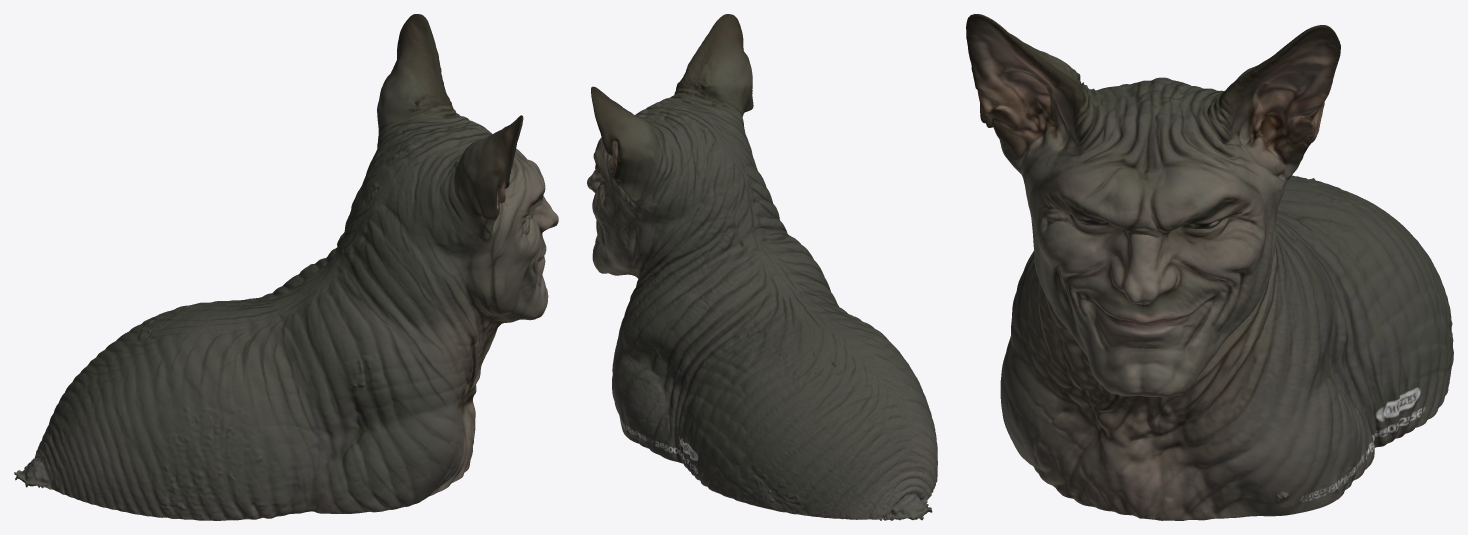
File: cat.glb
The picture shows the model from 3 angles, left to right: view 1: azimuth 30°, elevation 25°; view 2: azimuth 150°, elevation 25°; view 3: azimuth 270°, elevation 25°; orthographic projection. The views are drawn at different scales.
Parts seen in each view (by area): view 1: tripo_node_2431624b-6598-48f4-a1d6-3270f78a0e11; view 2: tripo_node_2431624b-6598-48f4-a1d6-3270f78a0e11; view 3: tripo_node_2431624b-6598-48f4-a1d6-3270f78a0e11.
Boxes of the visible parts, <box> form: tripo_node_2431624b-6598-48f4-a1d6-3270f78a0e11: <box>14,14,558,520</box>; tripo_node_2431624b-6598-48f4-a1d6-3270f78a0e11: <box>587,14,937,520</box>; tripo_node_2431624b-6598-48f4-a1d6-3270f78a0e11: <box>966,14,1453,520</box>.
Bounding box in the file's own units: 1 × 0.798 × 0.6932.
Materials: 1 (1 with a texture image).
